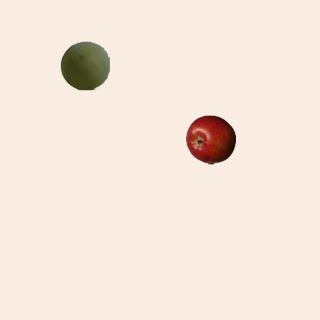Apple Braeburn: (185, 114, 235, 164)
Grape White 4: (59, 40, 109, 90)
